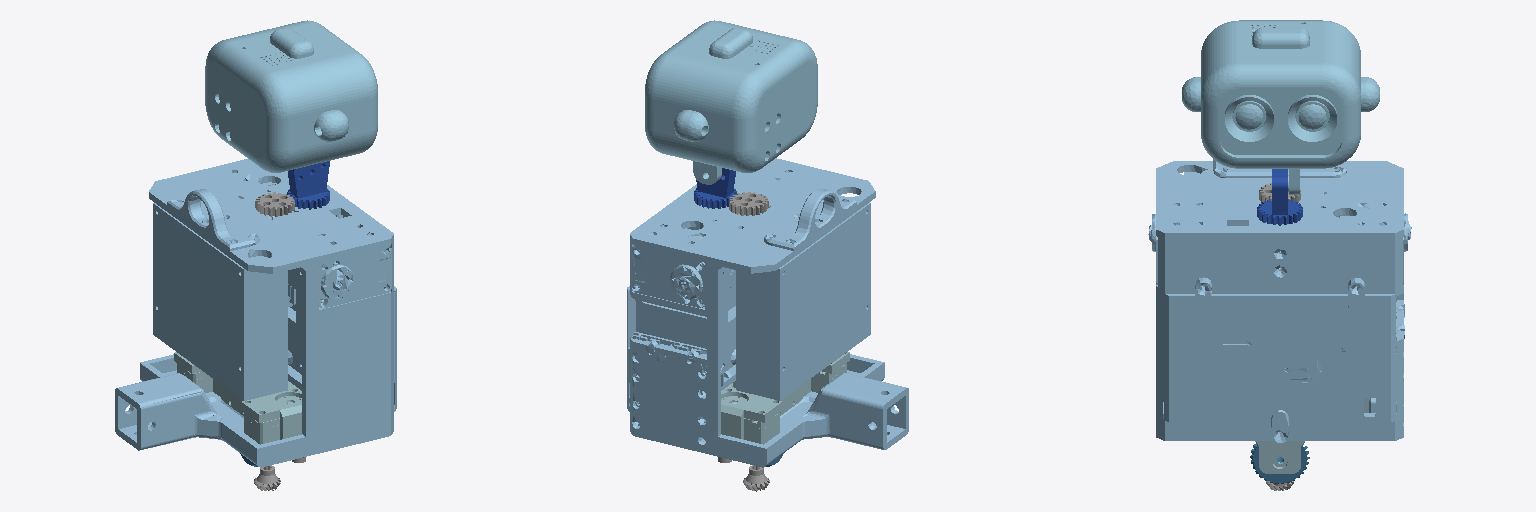
URDF robot description (toddlerbot_active):
<?xml version="1.0" ?>
<robot name="toddlerbot_active">
  <link name="torso">
    <visual>
      <origin xyz="0 0 0" rpy="0 -0 0"/>
      <geometry>
        <mesh filename="package:///meshes/torso_visual.stl"/>
      </geometry>
      <material name="torso_material">
        <color rgba="0.63866204066417398 0.79042612983052995546 0.89591918647189450198 1.0"/>
      </material>
    </visual>
    <collision>
      <origin xyz="0 0 0" rpy="0 -0 0"/>
      <geometry>
        <mesh filename="package:///meshes/torso_collision.stl"/>
      </geometry>
    </collision>
    <inertial>
      <origin xyz="-0.0025146157670445632749 -0.0034624525472092657248 0.065529395922090741267" rpy="0 0 0"/>
      <mass value="1.085065963101202513"/>
      <inertia ixx="0.0028272039396820135455" ixy="7.4126802941129236275e-05" ixz="1.8774159564660604415e-05" iyy="0.002249597677268255682" iyz="-2.9332579430689060759e-05" izz="0.0023020777581455841021"/>
    </inertial>
  </link>

  <link name="spur_1m_20t">
    <visual>
      <origin xyz="0 0 0" rpy="0 -0 0"/>
      <geometry>
        <mesh filename="package:///meshes/spur_1m_20t_visual.stl"/>
      </geometry>
      <material name="spur_1m_20t_material">
        <color rgba="0.64705882352941179736 0.64705882352941179736 0.64705882352941179736 1.0"/>
      </material>
    </visual>
    <collision>
      <origin xyz="0 0 0" rpy="0 -0 0"/>
      <geometry>
        <mesh filename="package:///meshes/spur_1m_20t_collision.stl"/>
      </geometry>
    </collision>
    <inertial>
      <origin xyz="-2.6272867535834243428e-19 -8.213876165191947908e-18 0.0033842321054344710884" rpy="0 0 0"/>
      <mass value="0.0015778025963746002049"/>
      <inertia ixx="4.5874424196602084909e-08" ixy="3.1120948173235942258e-24" ixz="-7.1097175513400468273e-39" iyy="4.5874424196602065057e-08" iyz="7.8419015231486123886e-38" izz="8.1737050837173876176e-08"/>
    </inertial>
  </link>

  <joint name="neck_yaw_drive" type="fixed">
    <origin xyz="-0.0049999999999995221878 3.1860588521011854095e-18 0.12148651076281755112" rpy="1.1607298201443905188e-14 1.6509758832059179101e-15 -5.3832337592600790636e-15"/>
    <parent link="torso"/>
    <child link="spur_1m_20t"/>
    <axis xyz="0 0 1"/>
    <limit effort="1" velocity="20"/>
    <joint_properties friction="0.0"/>
  </joint>

  <link name="neck_yaw_link_v2">
    <visual>
      <origin xyz="0 0 0" rpy="0 -0 0"/>
      <geometry>
        <mesh filename="package:///meshes/neck_yaw_link_v2_visual.stl"/>
      </geometry>
      <material name="neck_yaw_link_v2_material">
        <color rgba="0.2313725490196078538 0.38039215686274513439 0.7058823529411765163 1.0"/>
      </material>
    </visual>
    <collision>
      <origin xyz="0 0 0" rpy="0 -0 0"/>
      <geometry>
        <mesh filename="package:///meshes/neck_yaw_link_v2_collision.stl"/>
      </geometry>
    </collision>
    <inertial>
      <origin xyz="-1.1403990895340869883e-06 -1.1841855607304602894e-10 0.0082571849701004954719" rpy="0 0 0"/>
      <mass value="0.0067298837334394097723"/>
      <inertia ixx="5.2266067624768086445e-07" ixy="-6.3046403356094216415e-15" ixz="1.1949403084468002204e-09" iyy="6.1218519979556588152e-07" iyz="-2.601287198078358721e-15" izz="2.8062851709981924551e-07"/>
    </inertial>
  </link>

  <link name="head">
    <visual>
      <origin xyz="0 0 0" rpy="0 -0 0"/>
      <geometry>
        <mesh filename="package:///meshes/head_visual.stl"/>
      </geometry>
      <material name="head_material">
        <color rgba="0.62873939703496795062 0.79364291305093481732 0.87330110949792516539 1.0"/>
      </material>
    </visual>
    <collision>
      <origin xyz="0 0 0" rpy="0 -0 0"/>
      <geometry>
        <mesh filename="package:///meshes/head_collision.stl"/>
      </geometry>
    </collision>
    <inertial>
      <origin xyz="-0.045316002313821462932 -0.011276855645191820668 -0.0010251236602530952157" rpy="0 0 0"/>
      <mass value="0.13722101760550839411"/>
      <inertia ixx="0.00011880807294044733397" ixy="1.1390016804751257423e-06" ixz="1.8378816154934656445e-06" iyy="0.00010489076115433002847" iyz="-9.2536559812160233706e-06" izz="9.1894624061612226228e-05"/>
    </inertial>
  </link>

  <link name="motor_plate">
    <visual>
      <origin xyz="0 0 0" rpy="0 -0 0"/>
      <geometry>
        <mesh filename="package:///meshes/motor_plate_visual.stl"/>
      </geometry>
      <material name="motor_plate_material">
        <color rgba="0.64705882352941179736 0.64705882352941179736 0.64705882352941179736 1.0"/>
      </material>
    </visual>
    <collision>
      <origin xyz="0 0 0" rpy="0 -0 0"/>
      <geometry>
        <mesh filename="package:///meshes/motor_plate_collision.stl"/>
      </geometry>
    </collision>
    <inertial>
      <origin xyz="-6.9388939039072283776e-18 -3.4694469519536141888e-18 -0.0028281768943845498818" rpy="0 0 0"/>
      <mass value="0.0016999999999999999053"/>
      <inertia ixx="4.805029073310371698e-08" ixy="1.0773753257370483397e-09" ixz="-2.8434898612727714968e-36" iyy="5.1782428339099030199e-08" iyz="-8.7187946076336322982e-37" izz="9.2194729037862249329e-08"/>
    </inertial>
  </link>

  <joint name="neck_pitch_act" type="fixed">
    <origin xyz="-0.032615697718560709983 -0.027000000000000072553 0.0024999999999998486974" rpy="-3.1415926535897655825 -3.1793530896719215746e-13 -3.1415926535897407135"/>
    <parent link="head"/>
    <child link="motor_plate"/>
    <axis xyz="0 0 1"/>
    <limit effort="1" velocity="20"/>
    <joint_properties friction="0.0"/>
  </joint>

  <joint name="neck_pitch" type="revolute">
    <origin xyz="-1.1796119636642288242e-16 0.0040000000000001215139 0.019400000000000056088" rpy="-1.5707963267904627713 1.5671692223466835436 -3.1415926535886637971"/>
    <parent link="neck_yaw_link_v2"/>
    <child link="head"/>
    <axis xyz="0 0 1"/>
    <limit effort="1" velocity="20" lower="-1.3962634015954635824" upper="0.61086523819801530344"/>
    <joint_properties friction="0.0"/>
  </joint>

  <joint name="neck_yaw" type="revolute">
    <origin xyz="0.016000000000000621364 3.9122381713629107253e-19 0.12248651076281739936" rpy="1.5470695466536949876e-14 -3.0902695541116811913e-15 -8.6007558735577539147e-16"/>
    <parent link="torso"/>
    <child link="neck_yaw_link_v2"/>
    <axis xyz="0 0 1"/>
    <limit effort="1" velocity="20" lower="-2.6179938779914944114" upper="2.6179938779914944114"/>
    <joint_properties friction="0.0"/>
  </joint>

  <link name="waist_gears">
    <visual>
      <origin xyz="0 0 0" rpy="0 -0 0"/>
      <geometry>
        <mesh filename="package:///meshes/waist_gears_visual.stl"/>
      </geometry>
      <material name="waist_gears_material">
        <color rgba="0.29673072126509869584 0.50090014891145373532 0.63316042503557945498 1.0"/>
      </material>
    </visual>
    <collision>
      <origin xyz="0 0 0" rpy="0 -0 0"/>
      <geometry>
        <mesh filename="package:///meshes/waist_gears_collision.stl"/>
      </geometry>
    </collision>
    <inertial>
      <origin xyz="-2.9089024308857832571e-07 5.5035553748624927846e-08 -0.012592985430860506244" rpy="0 0 0"/>
      <mass value="0.026337180140419177987"/>
      <inertia ixx="1.5367047941033414761e-06" ixy="1.8828487083154202092e-11" ixz="4.0600521957505171123e-10" iyy="7.3024712275450681231e-06" iyz="3.2911737857356925833e-12" izz="6.9859065635059629397e-06"/>
    </inertial>
  </link>

  <link name="waist_link">
    <visual>
      <origin xyz="0 0 0" rpy="0 -0 0"/>
      <geometry>
        <mesh filename="package:///meshes/waist_link_visual.stl"/>
      </geometry>
      <material name="waist_link_material">
        <color rgba="0.64205964988973118768 0.77112878115803895618 0.80455743168009175026 1.0"/>
      </material>
    </visual>
    <collision>
      <origin xyz="0 0 0" rpy="0 -0 0"/>
      <geometry>
        <mesh filename="package:///meshes/waist_link_collision.stl"/>
      </geometry>
    </collision>
    <inertial>
      <origin xyz="-1.8696422424380786576e-17 -0.024647143936899634092 -0.024243097328499933762" rpy="0 0 0"/>
      <mass value="0.10819999998618363979"/>
      <inertia ixx="4.7479700735674147856e-05" ixy="-2.3251323235829624041e-20" ixz="-5.6250747314438694771e-09" iyy="9.6352172992785761079e-05" iyz="1.5514215856085537166e-06" izz="6.7249246473032378828e-05"/>
    </inertial>
  </link>

  <link name="spiral_bevel_1m_14t_30deg">
    <visual>
      <origin xyz="0 0 0" rpy="0 -0 0"/>
      <geometry>
        <mesh filename="package:///meshes/spiral_bevel_1m_14t_30deg_visual.stl"/>
      </geometry>
      <material name="spiral_bevel_1m_14t_30deg_material">
        <color rgba="0.64705882352941179736 0.64705882352941179736 0.64705882352941179736 1.0"/>
      </material>
    </visual>
    <collision>
      <origin xyz="0 0 0" rpy="0 -0 0"/>
      <geometry>
        <mesh filename="package:///meshes/spiral_bevel_1m_14t_30deg_collision.stl"/>
      </geometry>
    </collision>
    <inertial>
      <origin xyz="7.4971447105998133901e-10 7.1802237332913011122e-10 0.0066868955018979173155" rpy="0 0 0"/>
      <mass value="0.00073261524436595492574"/>
      <inertia ixx="1.3495056019478195011e-08" ixy="4.0596681291792787018e-17" ixz="8.5992550177701704034e-16" iyy="1.3495056150237195634e-08" iyz="-6.7913008238986341959e-16" izz="1.43559865498164051e-08"/>
    </inertial>
  </link>

  <joint name="waist_act_1" type="fixed">
    <origin xyz="-4.2595620045002374081e-18 -0.019600000000000006306 -0.012749999999999992242" rpy="1.570796326794896558 -1.1294754804497596673e-16 3.1415926535897926719"/>
    <parent link="waist_link"/>
    <child link="spiral_bevel_1m_14t_30deg"/>
    <axis xyz="0 0 1"/>
    <limit effort="1" velocity="20"/>
    <joint_properties friction="0.0"/>
  </joint>

  <link name="spiral_bevel_1m_14t_30deg_2">
    <visual>
      <origin xyz="0 0 0" rpy="0 -0 0"/>
      <geometry>
        <mesh filename="package:///meshes/spiral_bevel_1m_14t_30deg_2_visual.stl"/>
      </geometry>
      <material name="spiral_bevel_1m_14t_30deg_2_material">
        <color rgba="0.64705882352941179736 0.64705882352941179736 0.64705882352941179736 1.0"/>
      </material>
    </visual>
    <collision>
      <origin xyz="0 0 0" rpy="0 -0 0"/>
      <geometry>
        <mesh filename="package:///meshes/spiral_bevel_1m_14t_30deg_2_collision.stl"/>
      </geometry>
    </collision>
    <inertial>
      <origin xyz="3.6393116992217144912e-10 -9.7220472687967185443e-10 -0.0066868955018979190502" rpy="0 0 0"/>
      <mass value="0.00073261524436595492574"/>
      <inertia ixx="1.3495056012354480834e-08" ixy="2.5804135489187712274e-17" ixz="-1.069429605266726274e-15" iyy="1.3495056157360909811e-08" iyz="-2.387673694220831759e-16" izz="1.4355986549816408408e-08"/>
    </inertial>
  </link>

  <joint name="waist_act_2" type="fixed">
    <origin xyz="1.2028779959866843989e-17 -0.019599999999999999367 -0.032750000000000001332" rpy="-1.570796326794896558 1.1469143902292295508e-17 -3.141592653589793116"/>
    <parent link="waist_link"/>
    <child link="spiral_bevel_1m_14t_30deg_2"/>
    <axis xyz="0 0 1"/>
    <limit effort="1" velocity="20"/>
    <joint_properties friction="0.0"/>
  </joint>

  <link name="left_leg_active">
    <visual>
      <origin xyz="0 0 0" rpy="0 -0 0"/>
      <geometry>
        <mesh filename="package:///meshes/left_leg_active_visual.stl"/>
      </geometry>
      <material name="left_leg_active_material">
        <color rgba="0.67835035434534174392 0.664565314370153426 0.49955906843423497632 1.0"/>
      </material>
    </visual>
    <collision>
      <origin xyz="0 0 0" rpy="0 -0 0"/>
      <geometry>
        <mesh filename="package:///meshes/left_leg_active_collision.stl"/>
      </geometry>
    </collision>
    <inertial>
      <origin xyz="-0.14092425877841704973 0.0077365634042377640425 0.017464576249293012333" rpy="0 0 0"/>
      <mass value="0.52921784862573284514"/>
      <inertia ixx="0.00027159349071758195253" ixy="0.00012975665444408371915" ixz="4.4692420290224279676e-05" iyy="0.0046945349426157695003" iyz="2.4210259476750212908e-06" izz="0.0048508184546251715066"/>
    </inertial>
  </link>

  <joint name="left_hip_pitch" type="revolute">
    <origin xyz="0.05600000000000003586 -0.040100000000000766975 -0.02275000000000062389" rpy="-1.570796326794896558 2.3372262395059397709e-15 1.5707963267948974462"/>
    <parent link="waist_link"/>
    <child link="left_leg_active"/>
    <axis xyz="0 0 1"/>
    <limit effort="1" velocity="20" lower="-1.570796326794896558" upper="2.356194490192344837"/>
    <joint_properties friction="0.0"/>
  </joint>

  <link name="right_leg_active">
    <visual>
      <origin xyz="0 0 0" rpy="0 -0 0"/>
      <geometry>
        <mesh filename="package:///meshes/right_leg_active_visual.stl"/>
      </geometry>
      <material name="right_leg_active_material">
        <color rgba="0.67876327671658420737 0.66359535004692016269 0.49672657180944773669 1.0"/>
      </material>
    </visual>
    <collision>
      <origin xyz="0 0 0" rpy="0 -0 0"/>
      <geometry>
        <mesh filename="package:///meshes/right_leg_active_collision.stl"/>
      </geometry>
    </collision>
    <inertial>
      <origin xyz="-0.14116534832532304233 -0.0075848241194076508609 0.017478255614581609395" rpy="0 0 0"/>
      <mass value="0.52575341814690124131"/>
      <inertia ixx="0.00027208293955285965497" ixy="-0.000142807757240519614" ixz="4.4517445869087677527e-05" iyy="0.00468709591741410872" iyz="-3.8190578771648266574e-06" izz="0.0048443980856464063933"/>
    </inertial>
  </link>

  <joint name="right_hip_pitch" type="revolute">
    <origin xyz="-0.055999999999999966471 -0.040099999999999282052 -0.022750000000000037553" rpy="1.57079632679489678 3.8857805862892459266e-16 1.5707963267948961139"/>
    <parent link="waist_link"/>
    <child link="right_leg_active"/>
    <axis xyz="0 0 1"/>
    <limit effort="1" velocity="20" lower="-2.356194490192344837" upper="1.570796326794896558"/>
    <joint_properties friction="0.0"/>
  </joint>

  <joint name="waist_roll" type="revolute">
    <origin xyz="-0.022707865260692423198 -9.7274600111297846042e-19 -0.014000000000000000291" rpy="1.570796326794896558 8.4288122184796088386e-16 -1.570796326794896558"/>
    <parent link="waist_gears"/>
    <child link="waist_link"/>
    <axis xyz="0 0 1"/>
    <limit effort="1" velocity="20" lower="-0.52359877559829881566" upper="0.52359877559829881566"/>
    <joint_properties friction="0.0"/>
  </joint>

  <joint name="waist_yaw" type="revolute">
    <origin xyz="0 2.3419308123748787973e-31 -2.4651903288156618919e-32" rpy="1.7541622236939310179e-17 -3.9276012762146508757e-15 3.1415926535897922278"/>
    <parent link="torso"/>
    <child link="waist_gears"/>
    <axis xyz="0 0 1"/>
    <limit effort="1" velocity="20" lower="-1.570796326794896558" upper="1.570796326794896558"/>
    <joint_properties friction="0.0"/>
  </joint>

  <link name="left_arm_active">
    <visual>
      <origin xyz="0 0 0" rpy="0 -0 0"/>
      <geometry>
        <mesh filename="package:///meshes/left_arm_active_visual.stl"/>
      </geometry>
      <material name="left_arm_active_material">
        <color rgba="0.72341525389597438611 0.82443744477834624007 0.88223563844125418854 1.0"/>
      </material>
    </visual>
    <collision>
      <origin xyz="0 0 0" rpy="0 -0 0"/>
      <geometry>
        <mesh filename="package:///meshes/left_arm_active_collision.stl"/>
      </geometry>
    </collision>
    <inertial>
      <origin xyz="-0.00016036435969828059908 0.095083207758240154139 0.03394084089040318164" rpy="0 0 0"/>
      <mass value="0.45670014698257832553"/>
      <inertia ixx="0.0023660873890197224763" ixy="-7.3963929048819939324e-06" ixz="1.2562640552599602809e-07" iyy="0.00016046488915592976572" iyz="8.7828546788881899543e-05" izz="0.0023335501993751606858"/>
    </inertial>
  </link>

  <joint name="left_sho_pitch" type="revolute">
    <origin xyz="-0.0035000000000004762545 0.067000000000001072586 0.10423651076281729988" rpy="-1.5707963267949092145 -4.1276434099564722448e-14 3.4723733359247937182e-14"/>
    <parent link="torso"/>
    <child link="left_arm_active"/>
    <axis xyz="0 0 1"/>
    <limit effort="1" velocity="20" lower="-3.141592653589793116" upper="1.570796326794896558"/>
    <joint_properties friction="0.0"/>
  </joint>

  <link name="right_arm_active">
    <visual>
      <origin xyz="0 0 0" rpy="0 -0 0"/>
      <geometry>
        <mesh filename="package:///meshes/right_arm_active_visual.stl"/>
      </geometry>
      <material name="right_arm_active_material">
        <color rgba="0.72341525389597460816 0.82443744477834646212 0.88223563844125429956 1.0"/>
      </material>
    </visual>
    <collision>
      <origin xyz="0 0 0" rpy="0 -0 0"/>
      <geometry>
        <mesh filename="package:///meshes/right_arm_active_collision.stl"/>
      </geometry>
    </collision>
    <inertial>
      <origin xyz="-7.1603222576714910751e-05 0.095083207758231910733 0.033940840890699569554" rpy="0 0 0"/>
      <mass value="0.45670014698257821451"/>
      <inertia ixx="0.0023660873890183719941" ixy="-1.2149368780260271124e-05" ixz="9.4880455659918878647e-08" iyy="0.00016047429247689865245" iyz="8.7828546774973510129e-05" izz="0.0023335596026967009471"/>
    </inertial>
  </link>

  <joint name="right_sho_pitch" type="revolute">
    <origin xyz="-0.003499999999998689923 -0.067000000000001017075 0.10423651076281729988" rpy="-1.5707963267948874542 3.6375999989622199756e-14 -3.1415926535897562566"/>
    <parent link="torso"/>
    <child link="right_arm_active"/>
    <axis xyz="0 0 1"/>
    <limit effort="1" velocity="20" lower="-1.570796326794896558" upper="3.141592653589793116"/>
    <joint_properties friction="0.0"/>
  </joint>


</robot>

--- What the picture shows (computed from the rendered views, not written in the file) ---
The picture shows the robot from 3 angles, left to right: view 1: azimuth 30°, elevation 25°; view 2: azimuth 150°, elevation 25°; view 3: azimuth 270°, elevation 25°; orthographic projection.
Model toddlerbot_active with 13 links and 12 joints (8 revolute, 4 fixed), rooted at torso, posed every joint at zero.
Visible links, largest first — view 1: torso, head, waist_link, neck_yaw_link_v2, spur_1m_20t; view 2: torso, head, waist_link, neck_yaw_link_v2, spur_1m_20t; view 3: torso, head, neck_yaw_link_v2, waist_link, waist_gears.
Link boxes in pixels (x1,y1,x2,y2): torso: (115,159,396,467); head: (205,20,377,172); waist_link: (174,352,301,444); neck_yaw_link_v2: (287,161,329,209); spur_1m_20t: (255,192,294,216); torso: (627,158,908,467); head: (645,20,817,184); waist_link: (721,352,849,444); neck_yaw_link_v2: (694,168,736,208); spur_1m_20t: (729,192,768,215); torso: (1148,159,1411,442); head: (1182,20,1379,194); neck_yaw_link_v2: (1257,169,1302,225); waist_link: (1255,398,1368,473); waist_gears: (1250,442,1309,483).
Size in the robot's own frame: 0.141 by 0.1376 by 0.2709 metres.
Meshes: 13 distinct files referenced, 9 mesh visuals loaded (9 binary STL); not drawn: 4 (reference not matched to a file when rendering).